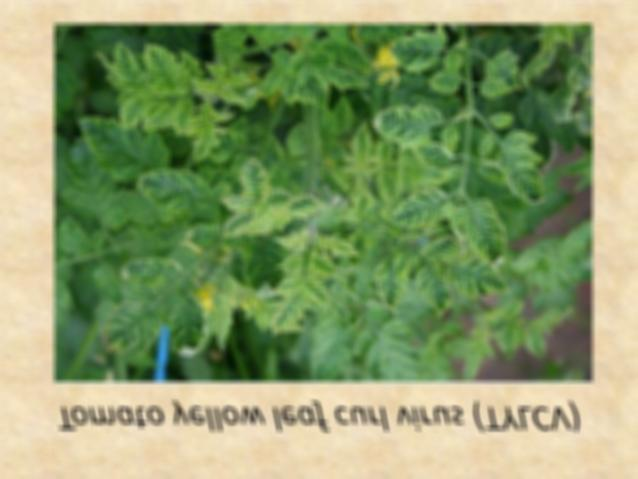Tomato leaf yellow virus: (73, 114, 181, 189), (135, 165, 210, 226), (101, 305, 166, 359), (492, 145, 551, 204), (369, 102, 433, 154), (414, 258, 462, 326), (463, 192, 509, 262), (370, 232, 408, 312), (172, 292, 216, 360), (449, 262, 518, 303), (258, 290, 311, 343), (391, 183, 450, 230), (384, 34, 452, 73), (122, 249, 185, 288), (236, 148, 272, 208), (315, 61, 380, 91), (109, 46, 151, 92), (118, 86, 157, 133), (147, 42, 182, 94), (286, 187, 333, 224), (304, 272, 345, 311), (219, 205, 264, 240), (260, 60, 287, 101), (174, 97, 199, 134), (277, 274, 303, 303), (218, 88, 252, 108)
